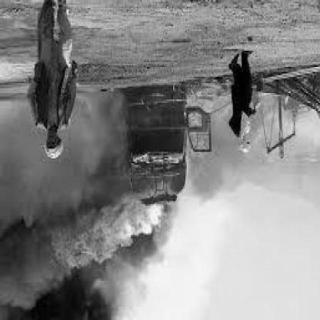Fire: (32, 195, 164, 271), (184, 99, 216, 181)
Smoke: (0, 242, 169, 320)
